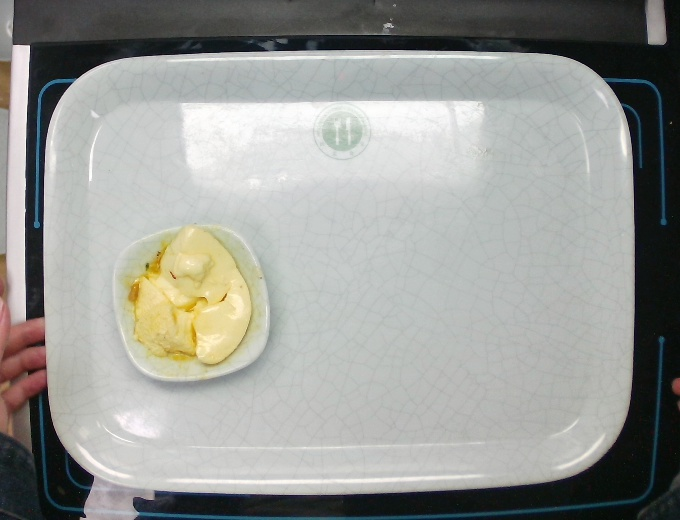JYsf-Si_Fang_Die: (108, 218, 276, 390)
